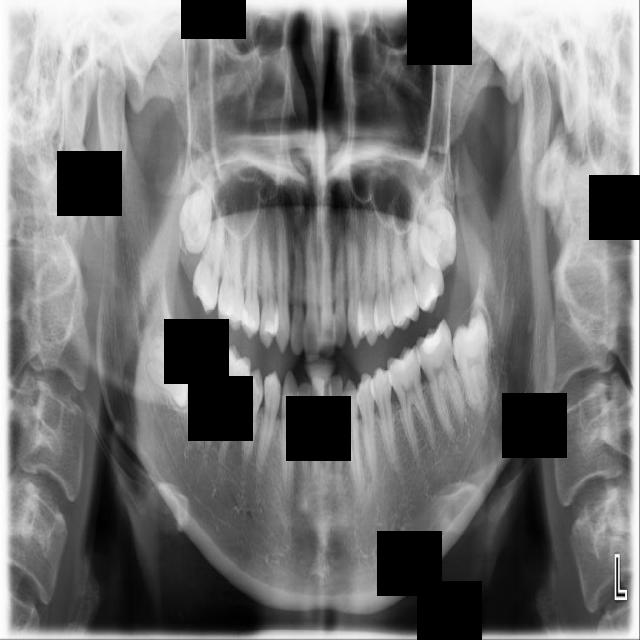3M ESPE Implant: (174, 167, 217, 257)
52: (402, 316, 468, 380), (185, 325, 226, 381), (217, 281, 245, 330), (257, 300, 281, 351), (241, 296, 261, 341)
73: (614, 578, 622, 580)
BioHorizons Implant: (405, 195, 447, 314)
BioLife Implant: (403, 158, 465, 274)
Biomet 3i Implant: (448, 311, 500, 418)
Blue Sky Bio Implant: (410, 318, 471, 442)
Caries: (190, 193, 229, 317)
Implant: (183, 325, 224, 448)
Keystone Dental Implant: (144, 329, 196, 408)
